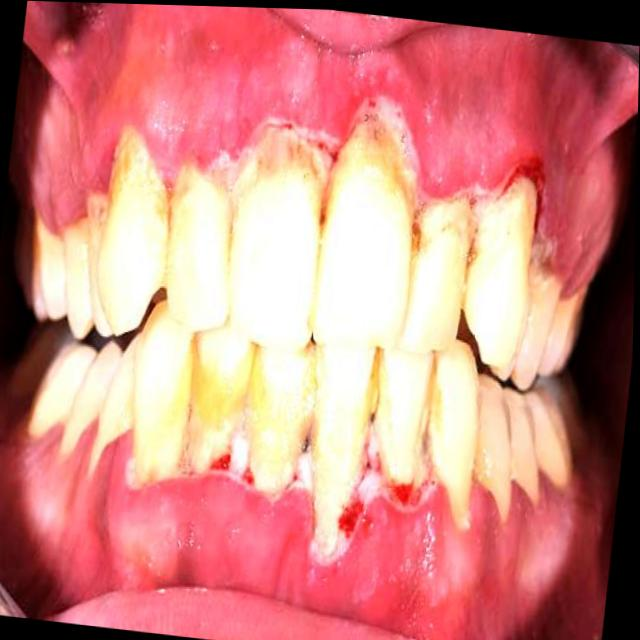gingivitis: (17, 1, 639, 292), (0, 395, 606, 640)
